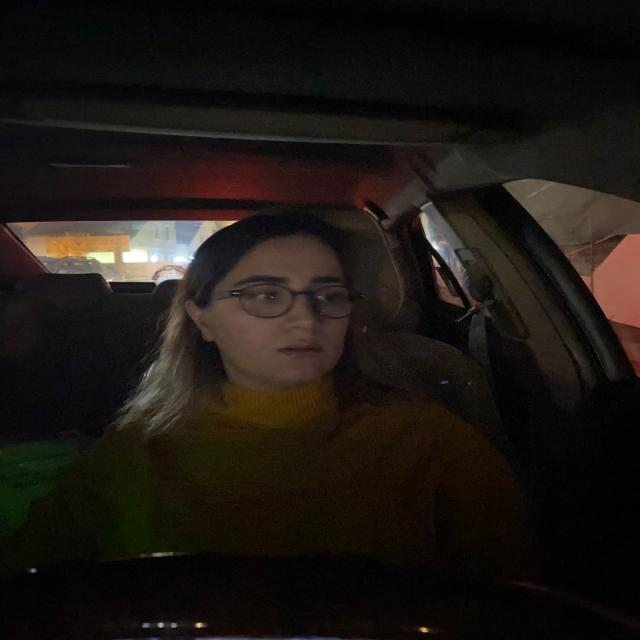person: (201, 224, 352, 380)
